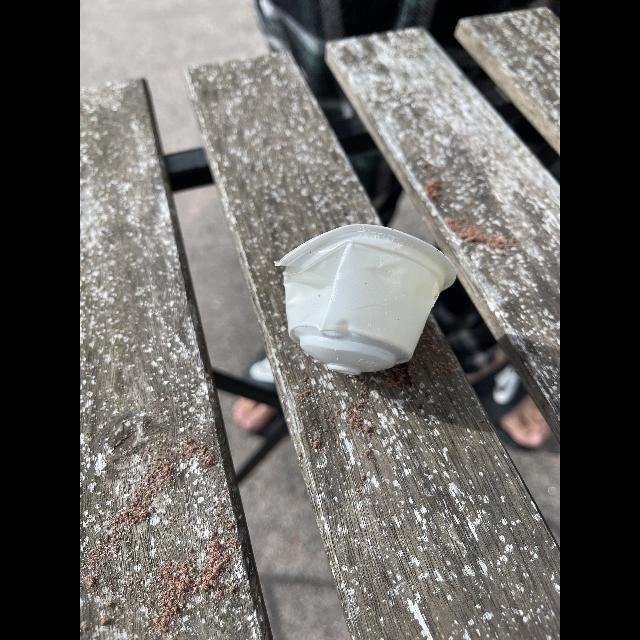damaged_capsule: (272, 218, 460, 388)
